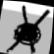not correct: (2, 1, 51, 54)
